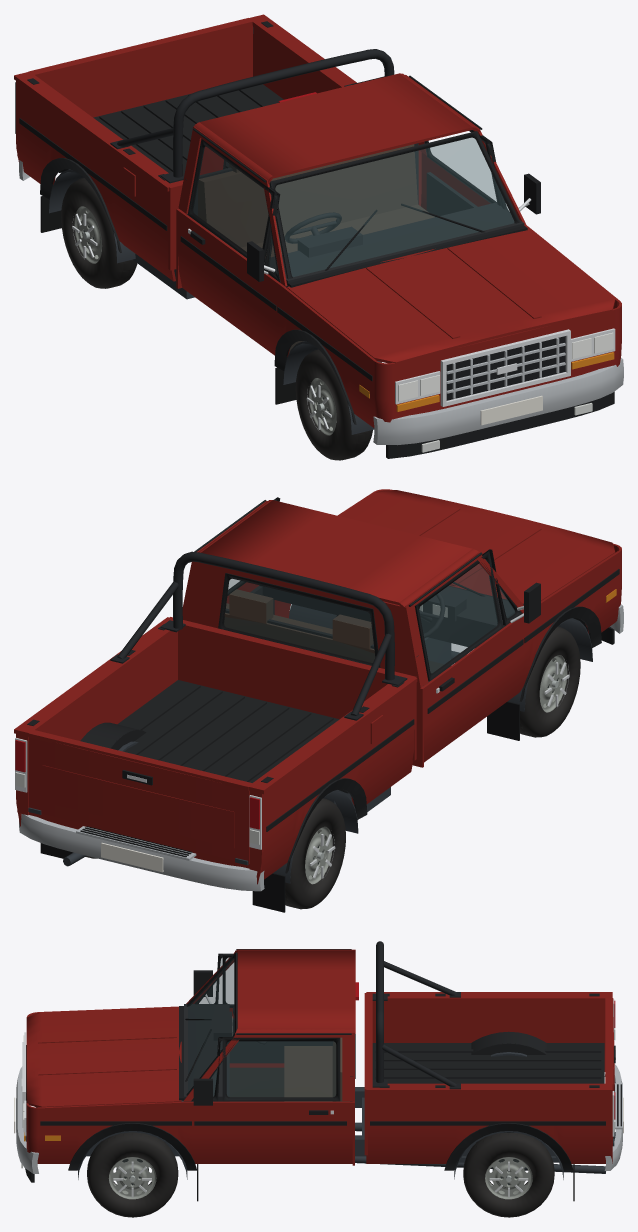
The model's file is hollins.glb.
3 renders of one model, top to bottom at view 1: azimuth 30°, elevation 25°; view 2: azimuth 150°, elevation 25°; view 3: azimuth 270°, elevation 25°, orthographic. The views are drawn at different scales.
Parts seen in each view (by area): view 1: panel_hoodHollins, glass_FrontHollins, panel_RoofHollins, Interior Hollins BenchBack, panel_TailgateHollinsInner, panel_HollinsBedSideL, panel_BodyDoorLHollins, panel_bumper_frontHollins, Interior Hollins Dashboard, glass_BodyDoorLHollins, panel_HollinsFrontPanel, panel_FrontWingLHollins (+37 smaller); view 2: panel_RoofHollins, panel_hoodHollins, panel_HollinsBedHeadboard, panel_HollinsBedFloor, panel_HollinsBedSideL, panel_TailgateHollins, panel_TailgateHollinsStamp, panel_BodyDoorLHollins, glass_RearHollins, panel_HollinsBedInnerR, glass_BodyDoorLHollins, panel_bumper_rearHollins (+43 smaller); view 3: panel_hoodHollins, panel_HollinsBedSideR, panel_RoofHollins, panel_BodyDoorRHollins, panel_HollinsBedInnerL, glass_BodyDoorRHollins, panel_HollinsBedFloor, panel_FrontWingRHollins, Tire_Tern_Carcass_FR, Tire_Tern_Carcass_RR, glass_FrontHollins, panel_HollinsBedFloorRibs (+38 smaller).
Boxes of the visible parts, x1,y1,x2,y2 form: panel_hoodHollins: (287,228,615,364); glass_FrontHollins: (275,138,513,276); panel_RoofHollins: (194,73,480,183); Interior Hollins BenchBack: (198,144,417,248); panel_TailgateHollinsInner: (39,25,252,117); panel_HollinsBedSideL: (16,81,175,281); panel_BodyDoorLHollins: (180,212,279,355); panel_bumper_frontHollins: (373,358,623,445); Interior Hollins Dashboard: (264,202,524,287); glass_BodyDoorLHollins: (193,146,271,251); panel_HollinsFrontPanel: (392,309,614,419); panel_FrontWingLHollins: (277,282,376,427); panel_RoofHollins: (198,500,479,610); panel_hoodHollins: (339,490,615,603); panel_HollinsBedHeadboard: (178,624,399,719); panel_HollinsBedFloor: (117,680,339,782); panel_HollinsBedSideL: (256,683,415,884); panel_TailgateHollins: (28,737,249,863); panel_TailgateHollinsStamp: (42,765,234,847); panel_BodyDoorLHollins: (424,616,523,762); glass_RearHollins: (224,579,374,662); panel_HollinsBedInnerR: (29,631,177,740); glass_BodyDoorLHollins: (419,560,497,672); panel_bumper_rearHollins: (19,814,264,891); panel_hoodHollins: (26,1007,181,1107); panel_HollinsBedSideR: (366,1093,612,1163); panel_RoofHollins: (235,949,355,1034); panel_BodyDoorRHollins: (193,1101,348,1163); panel_HollinsBedInnerL: (369,997,605,1042); glass_BodyDoorRHollins: (227,1041,335,1096); panel_HollinsBedFloor: (372,1043,604,1132); panel_FrontWingRHollins: (38,1101,192,1163); Tire_Tern_Carcass_FR: (87,1132,178,1217); Tire_Tern_Carcass_RR: (463,1133,554,1217); glass_FrontHollins: (188,958,233,1091); panel_HollinsBedFloorRibs: (375,1049,601,1078).
Size of the model in its own units: 2.29 by 1.92 by 5.35.
